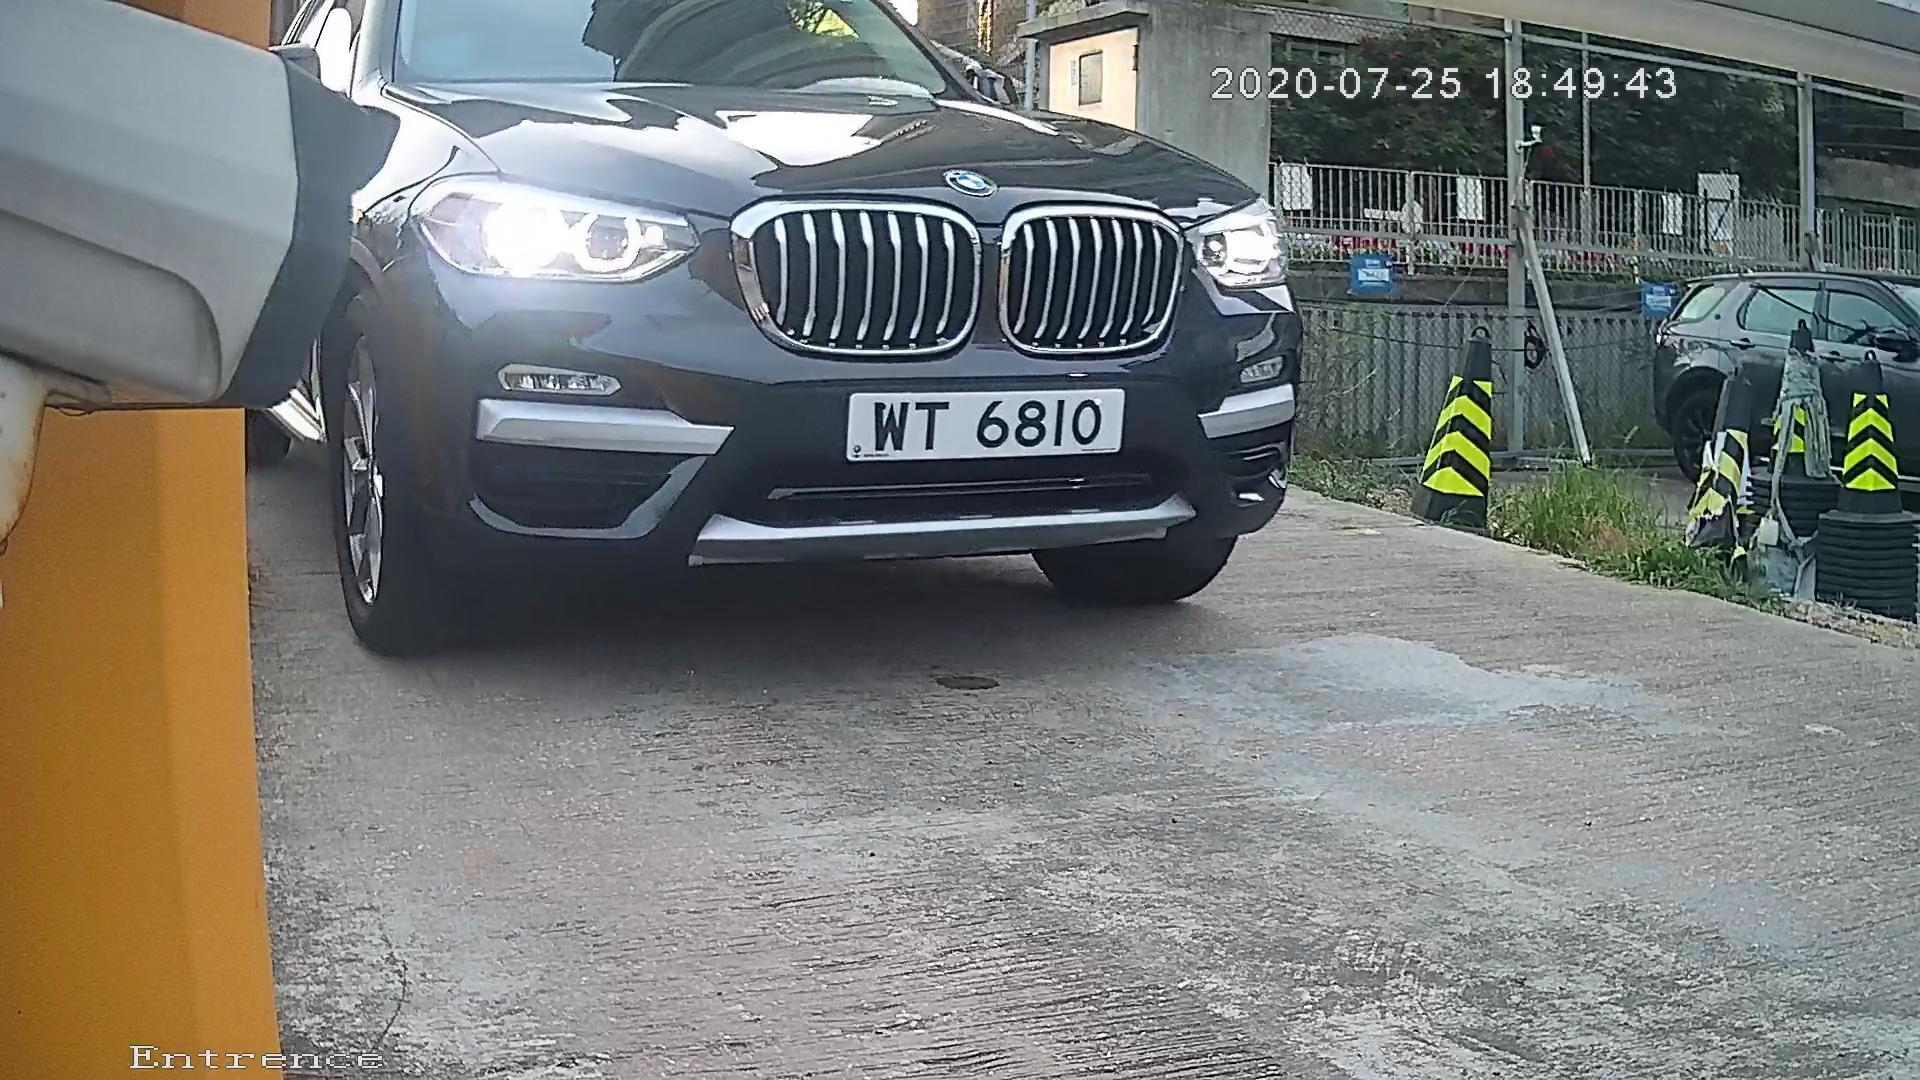privatecar: (276, 1, 1406, 651)
